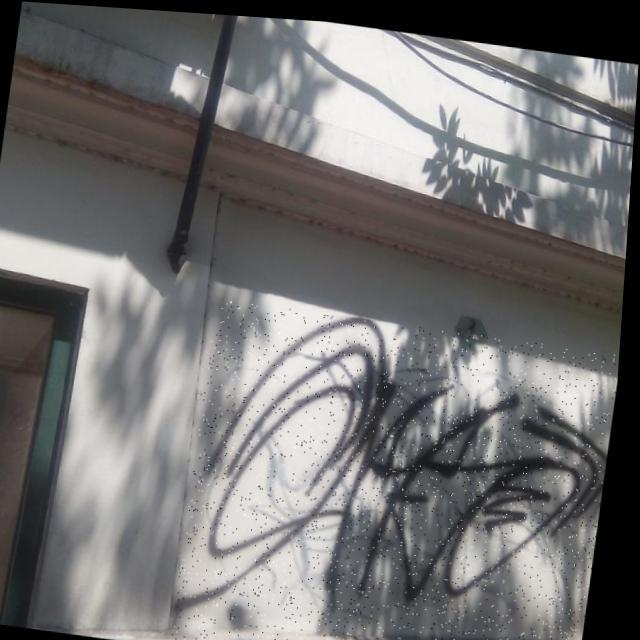-: (178, 294, 626, 640)
